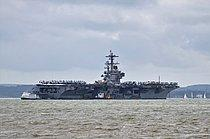MIL_Ship: (32, 48, 181, 99)
